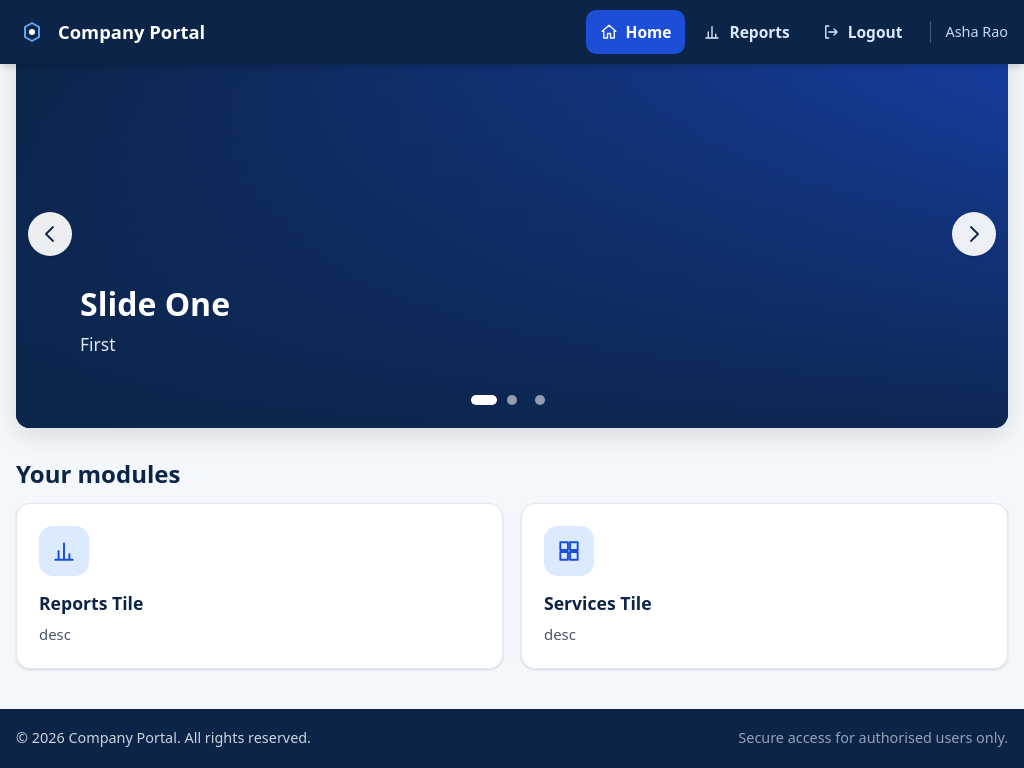
Test case: dashboard and logout › opens a tile page when a tile is clicked
(page scrolled)
Click the link "Reports Tile desc": (64, 551) x1=16 y1=503 x2=503 y2=669
(page scrolled)
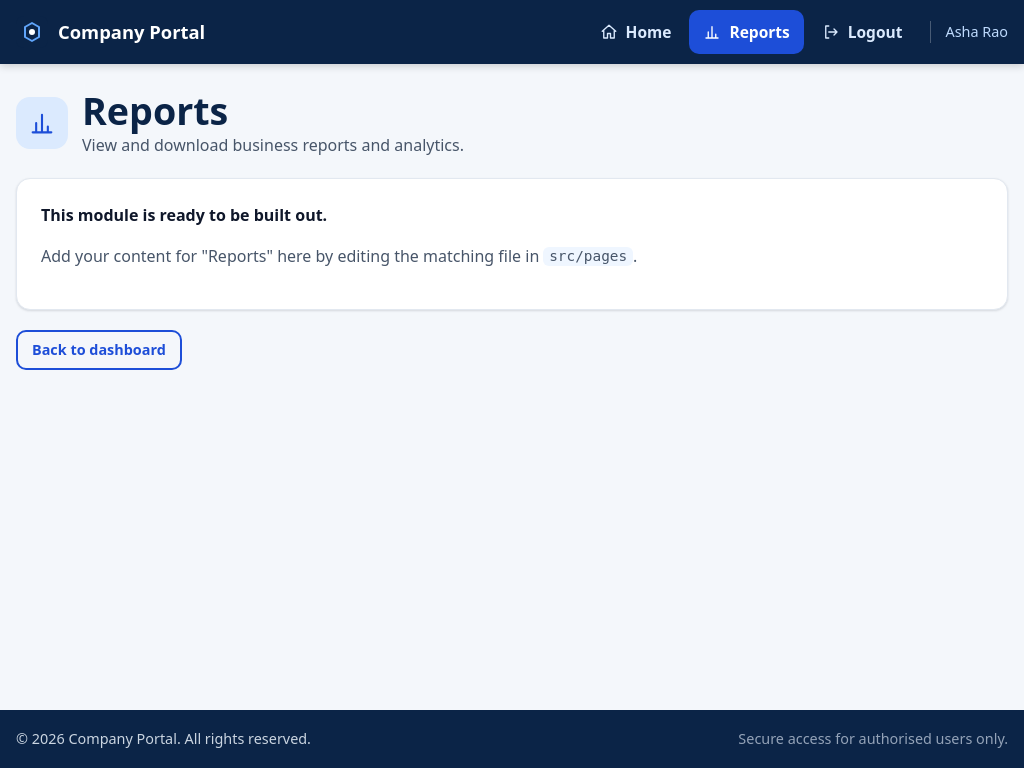
Now the heading "Reports" is shown, box x1=82 y1=85 x2=228 y2=136
